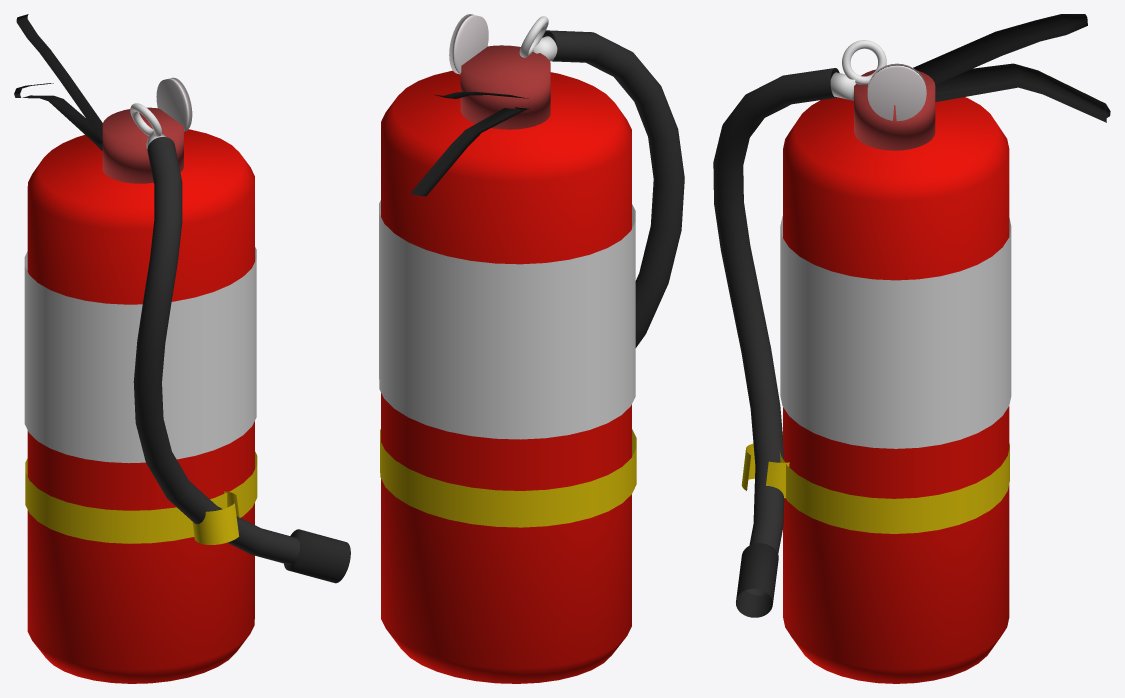
File: NoLight a fire extinguisher.fbx
3 renders of one model, left to right at view 1: azimuth 30°, elevation 25°; view 2: azimuth 150°, elevation 25°; view 3: azimuth 270°, elevation 25°, orthographic. The views are drawn at different scales.
Parts seen in each view (by area): view 1: 실린더, 실린더.004, 베지어커브, 실린더.003, 실린더.001, 실린더.007, 평면, 실린더.005, 실린더.006, 평면.001, Torus; view 2: 실린더, 실린더.004, 베지어커브, 실린더.003, 실린더.001, 평면.001, 실린더.006, Torus; view 3: 실린더, 실린더.004, 베지어커브, 실린더.003, 평면, 평면.001, 실린더.001, 실린더.006, 실린더.007, 실린더.005, Torus.
Boxes of the visible parts, left/top/right/bottom form: 실린더: left=27, top=129, right=254, bottom=683; 실린더.004: left=24, top=247, right=256, bottom=463; 베지어커브: left=133, top=137, right=299, bottom=564; 실린더.003: left=25, top=451, right=257, bottom=543; 실린더.001: left=102, top=107, right=183, bottom=183; 실린더.007: left=284, top=529, right=350, bottom=583; 평면: left=16, top=14, right=102, bottom=140; 실린더.005: left=192, top=491, right=239, bottom=544; 실린더.006: left=156, top=77, right=192, bottom=131; 평면.001: left=14, top=83, right=102, bottom=150; Torus: left=130, top=103, right=161, bottom=136; 실린더: left=381, top=70, right=631, bottom=683; 실린더.004: left=379, top=200, right=635, bottom=439; 베지어커브: left=542, top=30, right=684, bottom=347; 실린더.003: left=380, top=429, right=636, bottom=527; 실린더.001: left=460, top=45, right=550, bottom=129; 평면.001: left=410, top=107, right=529, bottom=196; 실린더.006: left=449, top=14, right=488, bottom=74; Torus: left=519, top=16, right=548, bottom=57; 실린더: left=783, top=97, right=1009, bottom=683; 실린더.004: left=780, top=216, right=1011, bottom=448; 베지어커브: left=713, top=68, right=839, bottom=595; 실린더.003: left=780, top=432, right=1009, bottom=533; 평면: left=913, top=14, right=1087, bottom=84; 평면.001: left=935, top=63, right=1110, bottom=122; 실린더.001: left=854, top=69, right=935, bottom=150; 실린더.006: left=867, top=63, right=926, bottom=121; 실린더.007: left=736, top=543, right=778, bottom=617; 실린더.005: left=741, top=443, right=789, bottom=498; Torus: left=842, top=40, right=886, bottom=84.
Size of the model in its own units: 172 by 384 by 228.
